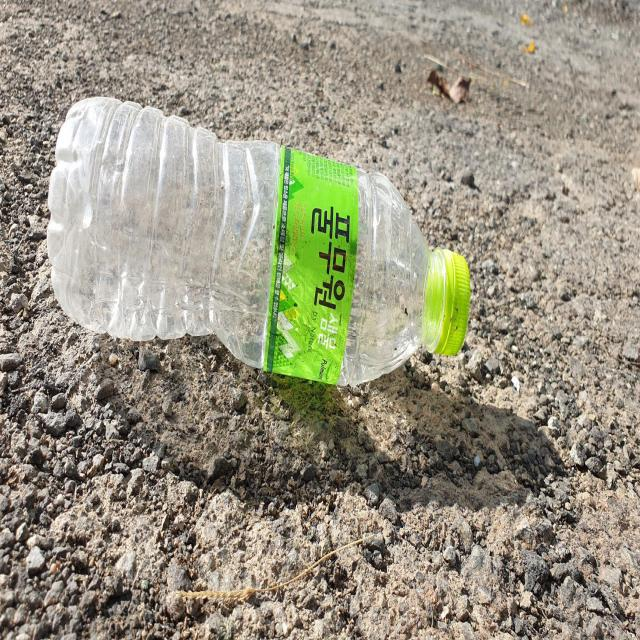plastic: (46, 96, 471, 385)
